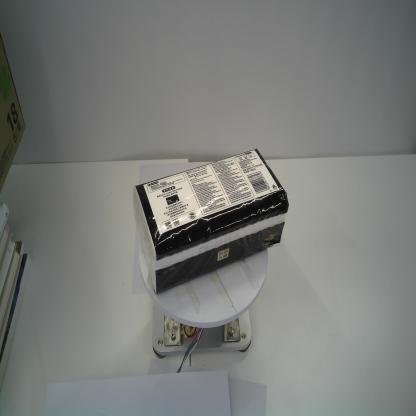Tissue: (131, 147, 291, 297)
